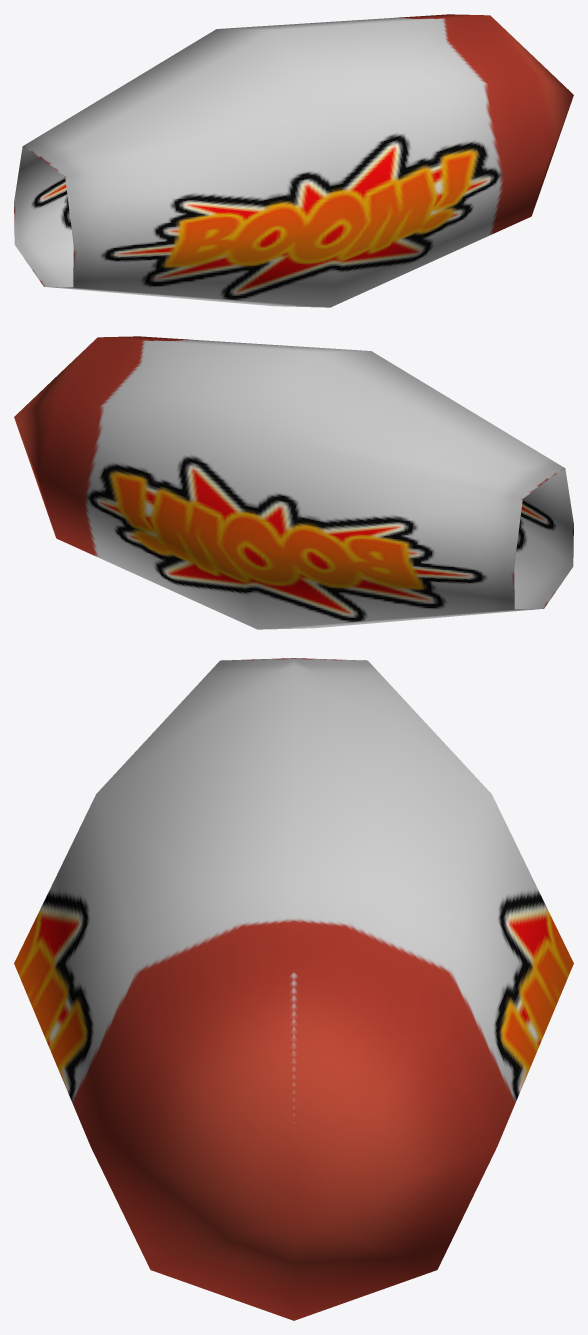
The model's file is dan.FBX.
The picture shows the model from 3 angles, top to bottom: view 1: azimuth 30°, elevation 25°; view 2: azimuth 150°, elevation 25°; view 3: azimuth 270°, elevation 25°; orthographic projection. The views are drawn at different scales.
Visible parts, largest first — view 1: Object025; view 2: Object025; view 3: Object025.
Boxes of the visible parts, x1,y1,x2,y2 form: Object025: (14,14,573,307); Object025: (14,336,573,629); Object025: (14,658,573,1320).
Bounding box in the file's own units: 162 × 80.5 × 85.34.
